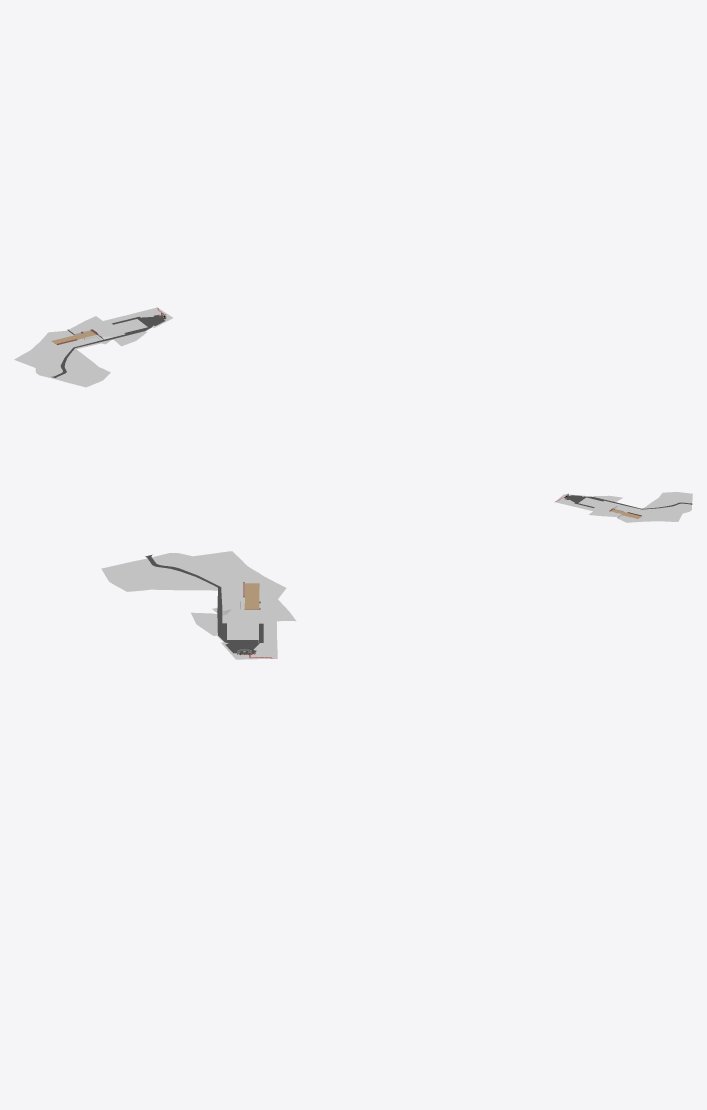
The model's file is Flooring.glb.
The picture shows the model from 3 angles, top to bottom: view 1: azimuth 30°, elevation 25°; view 2: azimuth 150°, elevation 25°; view 3: azimuth 270°, elevation 25°; orthographic projection. The views are drawn at different scales.
Visible parts, largest first — view 1: Plane.193; view 2: Plane.193, Plane.001; view 3: Plane.193, Plane.001.
Part boxes in pixels (bbox=[...]): Plane.193: bbox=[14, 308, 172, 387]; Plane.193: bbox=[555, 492, 692, 522]; Plane.001: bbox=[565, 495, 692, 509]; Plane.193: bbox=[101, 551, 296, 659]; Plane.001: bbox=[145, 554, 259, 654].
Size of what is drawn, in the model's own units: 613 by 54.04 by 235.
